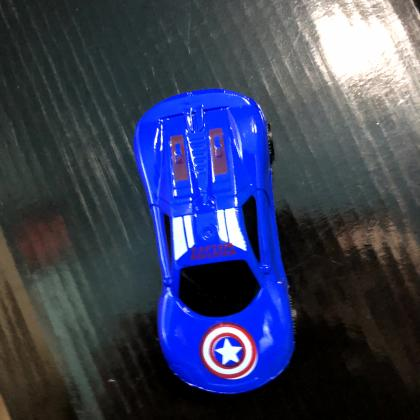Car: (131, 89, 296, 396)
